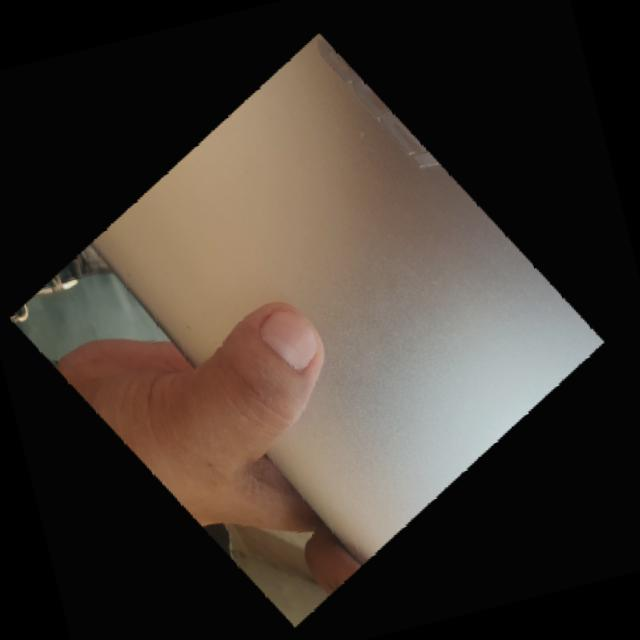Nail: (259, 312, 315, 371)
